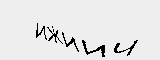Ж: (47, 24, 62, 45)
И: (81, 37, 108, 59), (60, 32, 80, 55), (34, 23, 47, 42)
Ч: (112, 38, 138, 57)
